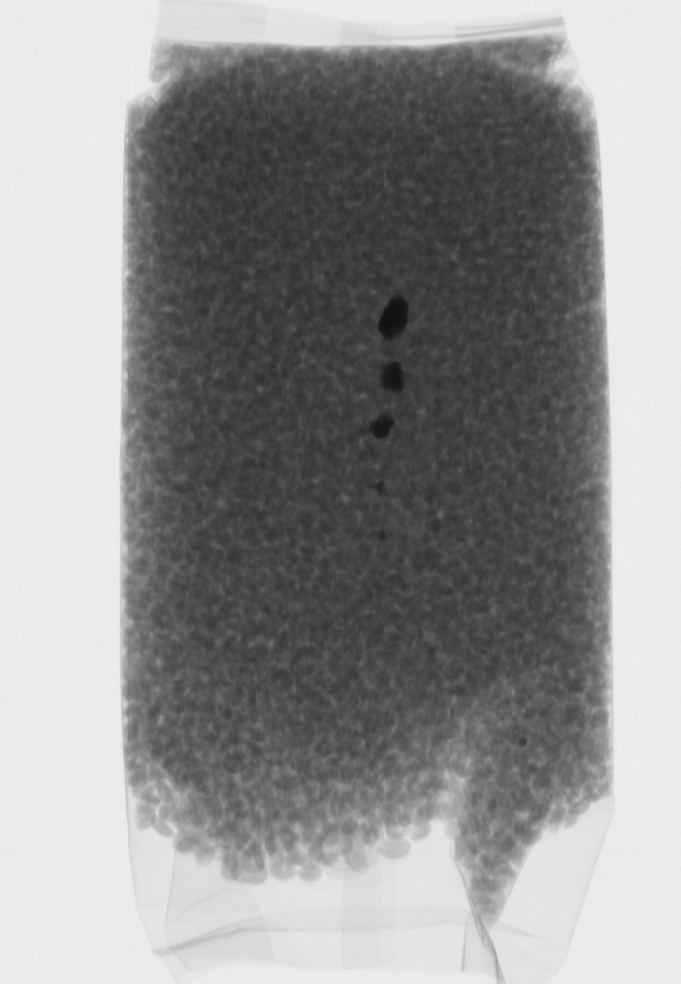stone: (375, 282, 411, 342), (376, 362, 409, 394), (369, 412, 397, 440), (369, 478, 392, 499), (373, 524, 393, 546)
stone_area: (356, 261, 424, 569)
